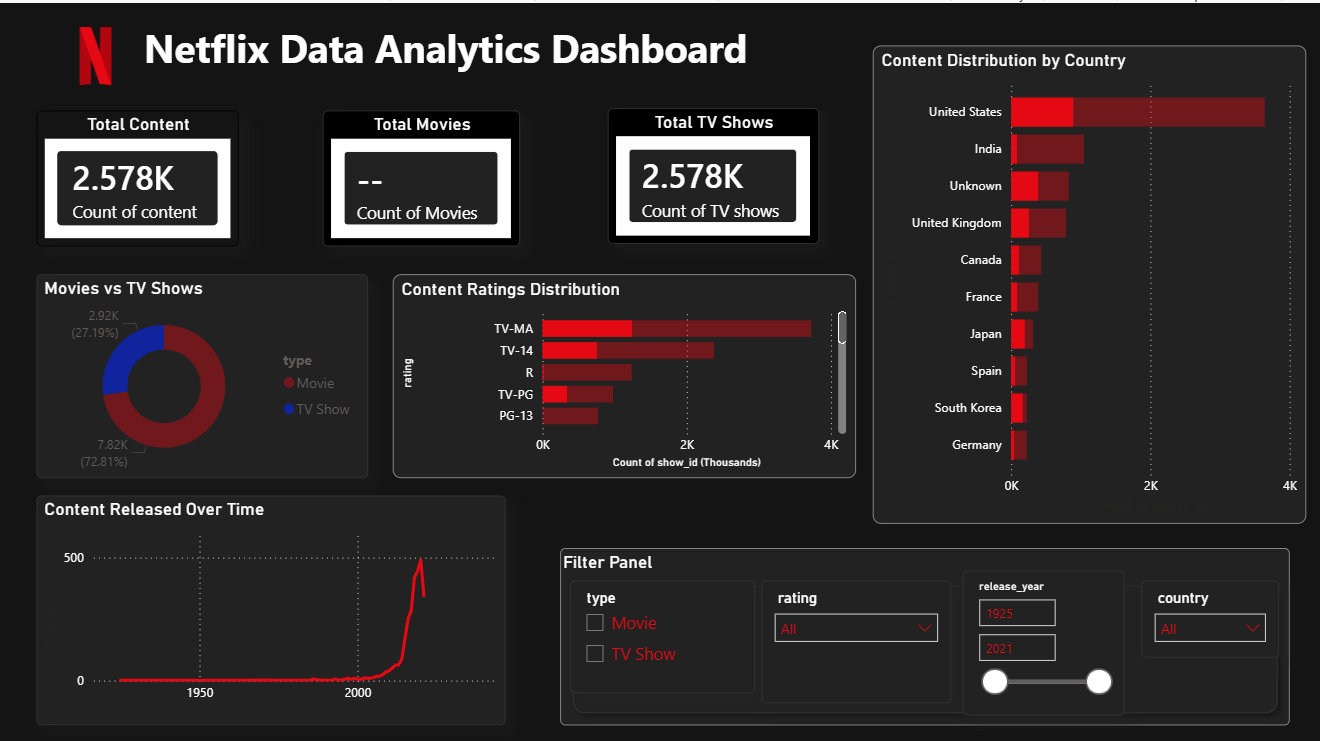

Layout of this report page (visuals, bound fields, positions):
{"tool":"powerbi","page":{"name":"Page 1","canvas":[1280,720],"ordinal":0},"visuals":[{"type":"shape","box":[541.4,525.7,704.3,171.4],"z":0},{"type":"cardVisual","title":"Total Content","fields":{"Data":["Count(cleaned_netflix_data.show_id)"]},"box":[35.7,104.3,175.7,131.4],"z":1000},{"type":"cardVisual","title":"Total Movies","fields":{"Data":["Count(cleaned_netflix_data.show_id)"]},"box":[312.9,104.3,175.7,131.4],"z":2000},{"type":"donutChart","fields":{"Category":["cleaned_netflix_data.type"],"Y":["CountNonNull(cleaned_netflix_data.show_id)"]},"box":[35.7,261.4,320,197.1],"z":3000},{"type":"clusteredBarChart","fields":{"Category":["cleaned_netflix_data.country"],"Y":["CountNonNull(cleaned_netflix_data.show_id)"]},"box":[842.9,41.4,418.6,461.4],"z":4000},{"type":"lineChart","fields":{"Category":["cleaned_netflix_data.release_year"],"Y":["CountNonNull(cleaned_netflix_data.show_id)"]},"box":[35.7,475.7,452.9,221.4],"z":5000},{"type":"clusteredBarChart","fields":{"Category":["cleaned_netflix_data.rating"],"Y":["CountNonNull(cleaned_netflix_data.show_id)"]},"box":[380,261.4,447.1,197.1],"z":6000},{"type":"slicer","fields":{"Values":["cleaned_netflix_data.type"]},"box":[551.4,557.1,178.6,108.6],"z":7000},{"type":"slicer","fields":{"Values":["cleaned_netflix_data.country"]},"box":[1102.9,557.1,132.9,74.3],"z":8000},{"type":"slicer","fields":{"Values":["cleaned_netflix_data.rating"]},"box":[735.7,557.1,182.9,118.6],"z":9000},{"type":"slicer","fields":{"Values":["cleaned_netflix_data.release_year"]},"box":[930,547.1,155.7,140],"z":10000},{"type":"textbox","box":[114.3,12.9,632.9,91.4],"z":11000},{"type":"cardVisual","title":"Total TV Shows","fields":{"Data":["Count(cleaned_netflix_data.show_id)"]},"box":[587.1,101.4,175.7,131.4],"z":12000},{"type":"image","box":[0,0,186,102],"z":12001}]}

Visuals, with their boxes in screenshot pixels (x1, y1, x2, y2), scaled from the page's 1280x720 canvas onto the 1320x741 screenshot:
shape: l=558, t=541, r=1285, b=717
"Total Content" cardVisual: l=37, t=107, r=218, b=243
"Total Movies" cardVisual: l=323, t=107, r=504, b=243
donutChart - cleaned_netflix_data.type x CountNonNull(cleaned_netflix_data.show_id): l=37, t=269, r=367, b=472
clusteredBarChart - cleaned_netflix_data.country x CountNonNull(cleaned_netflix_data.show_id): l=869, t=43, r=1301, b=517
lineChart - cleaned_netflix_data.release_year x CountNonNull(cleaned_netflix_data.show_id): l=37, t=490, r=504, b=717
clusteredBarChart - cleaned_netflix_data.rating x CountNonNull(cleaned_netflix_data.show_id): l=392, t=269, r=853, b=472
slicer - cleaned_netflix_data.type: l=569, t=573, r=753, b=685
slicer - cleaned_netflix_data.country: l=1137, t=573, r=1274, b=650
slicer - cleaned_netflix_data.rating: l=759, t=573, r=947, b=695
slicer - cleaned_netflix_data.release_year: l=959, t=563, r=1120, b=707
textbox: l=118, t=13, r=771, b=107
"Total TV Shows" cardVisual: l=605, t=104, r=787, b=240
image: l=0, t=0, r=192, b=105
